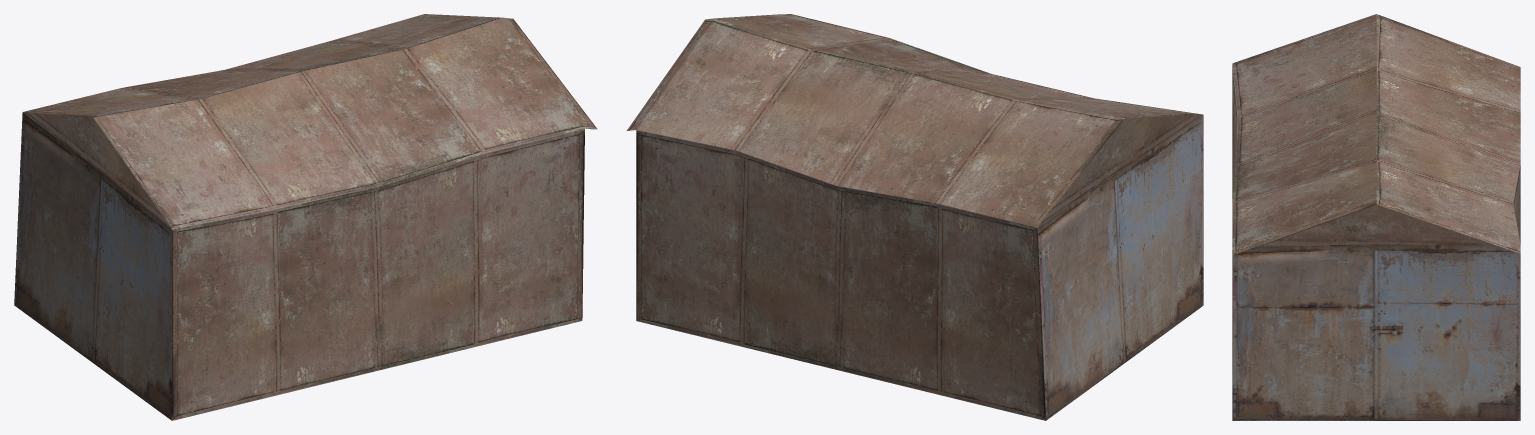
File: garage_tin_3.glb
3 views of the same model, side by side, from view 1: azimuth 30°, elevation 25°; view 2: azimuth 150°, elevation 25°; view 3: azimuth 270°, elevation 25° (orthographic). The views are drawn at different scales.
Parts seen in each view (by area): view 1: garage_tin_3; view 2: garage_tin_3; view 3: garage_tin_3.
Boxes of the visible parts, x1=… form: garage_tin_3: x1=14, y1=14, x2=597, y2=420; garage_tin_3: x1=627, y1=14, x2=1203, y2=420; garage_tin_3: x1=1232, y1=14, x2=1520, y2=420.
Size of the model in its own units: 4.36 by 2.4 by 2.8.
1 material, 1 textured.
